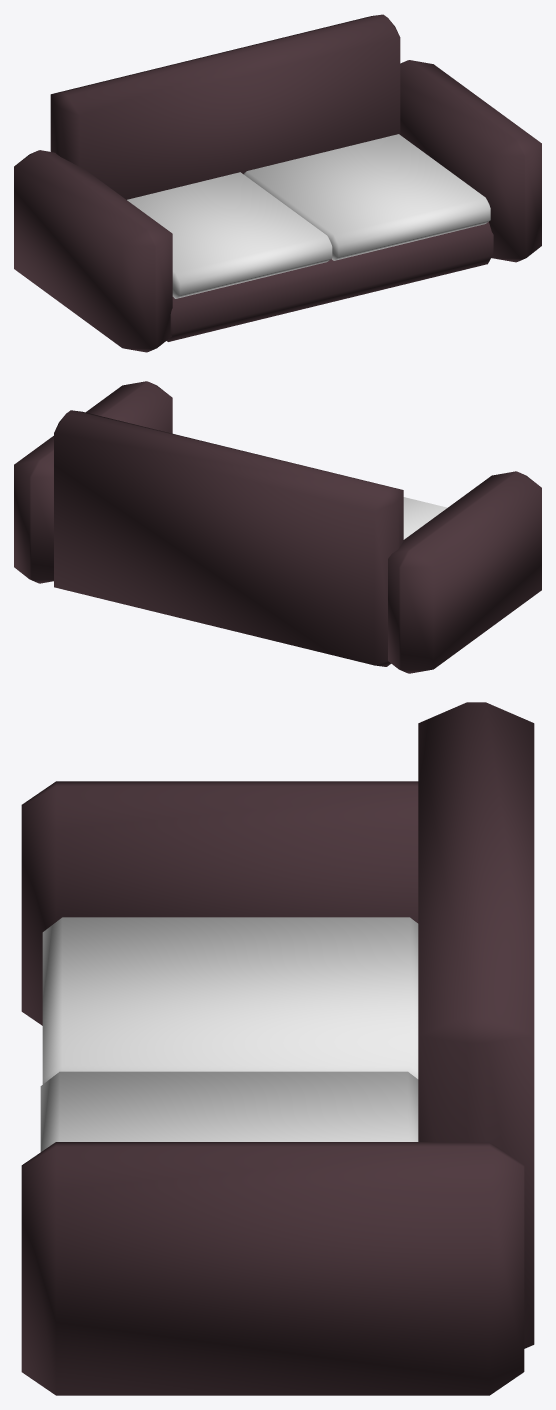
The picture shows the model from 3 angles, top to bottom: view 1: azimuth 30°, elevation 25°; view 2: azimuth 150°, elevation 25°; view 3: azimuth 270°, elevation 25°; orthographic projection. The views are drawn at different scales.
Visible parts, largest first — view 1: Cube.002, Cube.003, Cube.005, Cube.001, Cube.004, Cube; view 2: Cube.002, Cube.003, Cube.001, Cube.004; view 3: Cube.001, Cube.004, Cube.003, Cube.002, Cube.005.
Boxes of the visible parts, x1,y1,x2,y2 form: Cube.002: (50, 14, 400, 199); Cube.003: (14, 150, 172, 352); Cube.005: (244, 134, 490, 260); Cube.001: (400, 60, 541, 262); Cube.004: (127, 172, 332, 298); Cube: (167, 222, 493, 341); Cube.002: (54, 410, 403, 666); Cube.003: (388, 471, 541, 673); Cube.001: (14, 381, 172, 583); Cube.004: (403, 497, 447, 539); Cube.001: (21, 1142, 524, 1395); Cube.004: (42, 917, 418, 1084); Cube.003: (21, 781, 418, 1025); Cube.002: (418, 702, 534, 1348); Cube.005: (40, 1071, 418, 1151).
Bounding box in the file's own units: 2.51 × 1 × 1.33.
